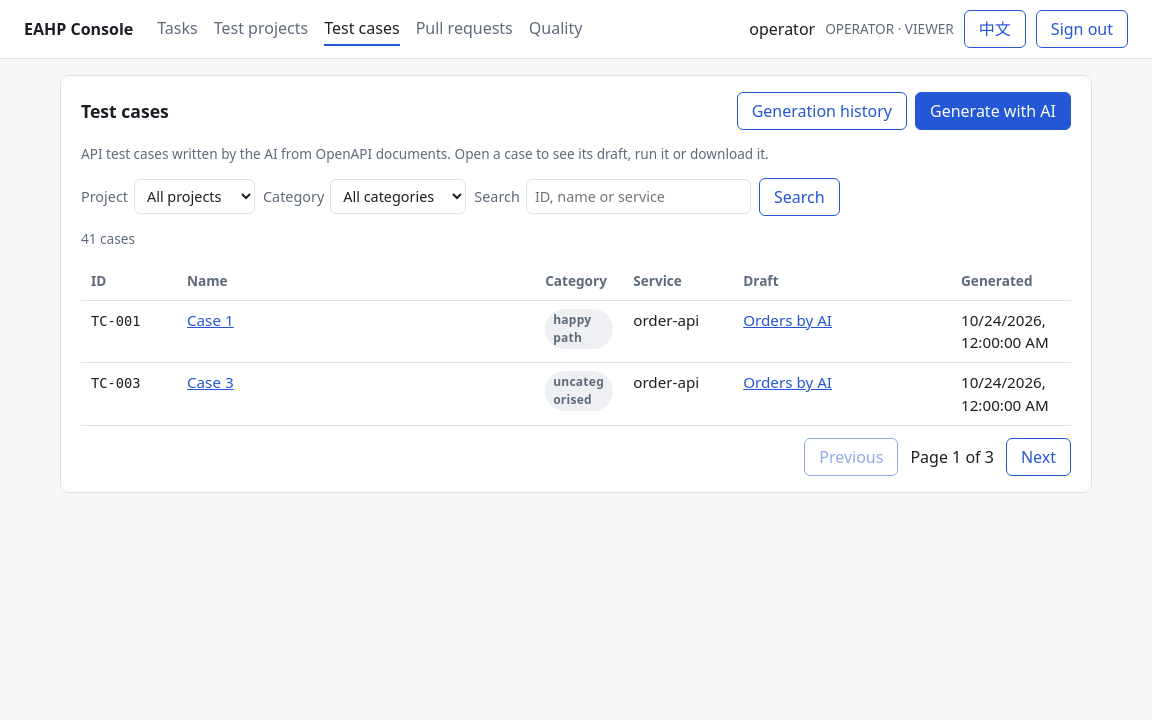
it: QA console › lists AI test cases on their own paged page, filtered by category
Expected: the text "41 cases" is shown, [81,229,135,248]
Expected: the text "uncategorised" is shown, [545,371,613,411]
Click the button "Next" at x=1038, y=457, box [1006,438,1071,476]
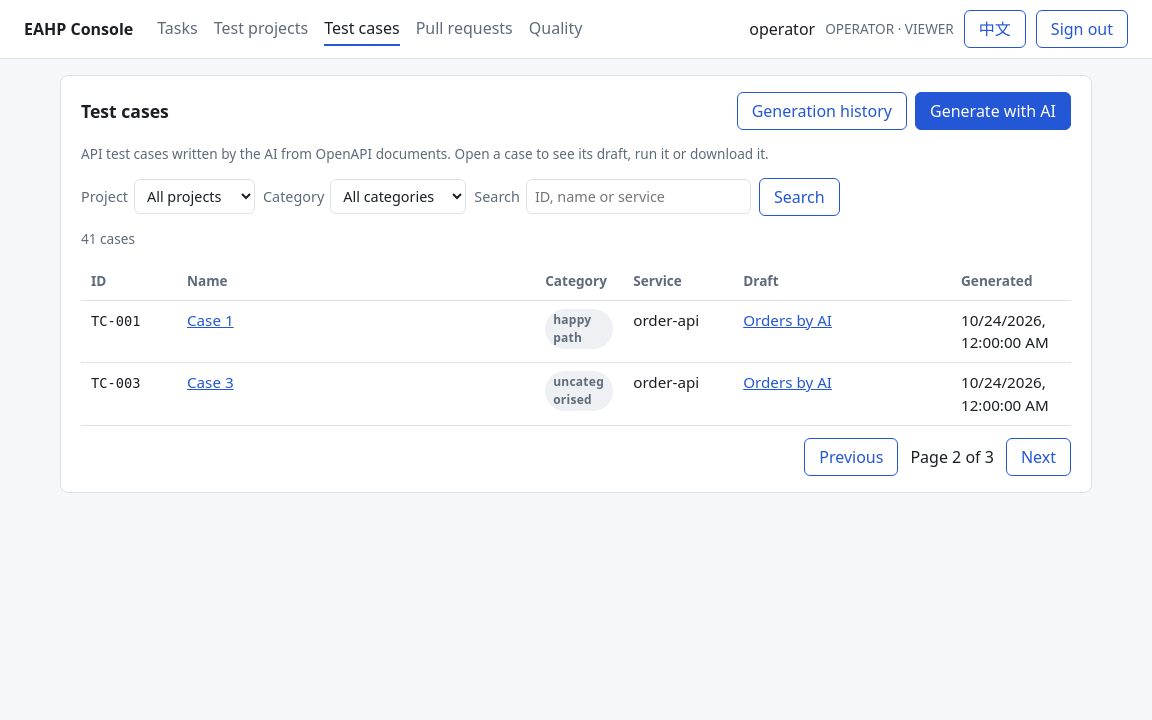
Select "validation" in the dropdown labelled "Category" at x=398, y=197, box [330,179,466,214]
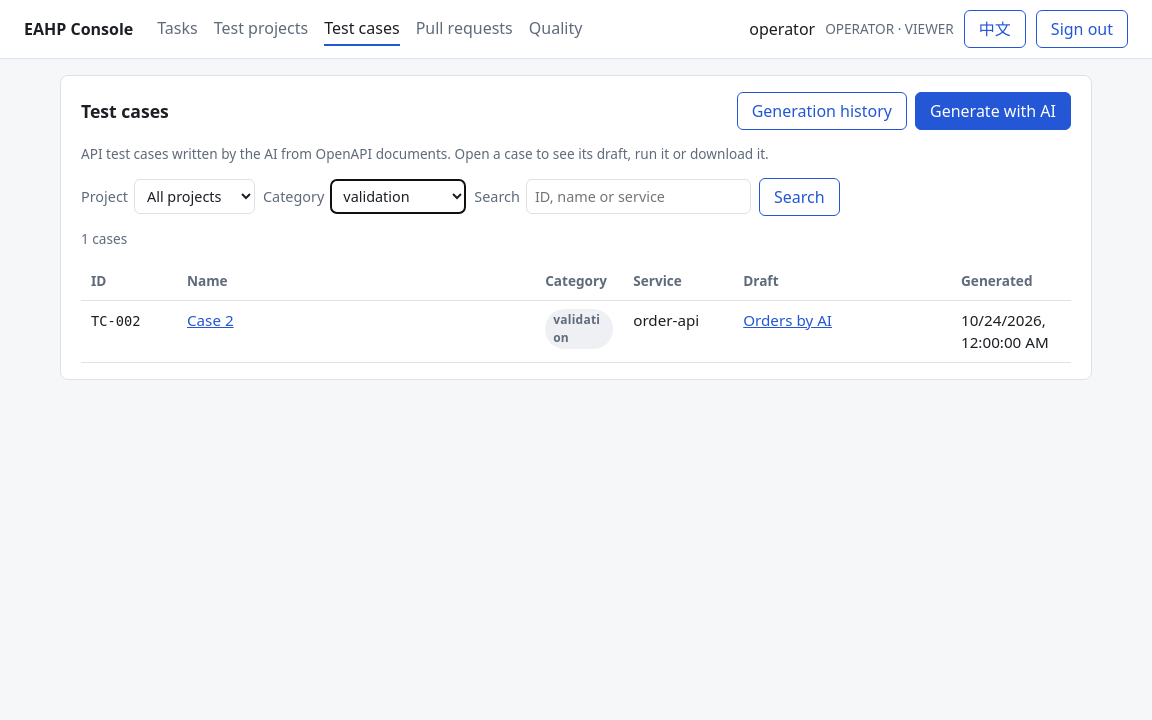
Expected: the link "Case 2" is shown, [187,310,234,330]
